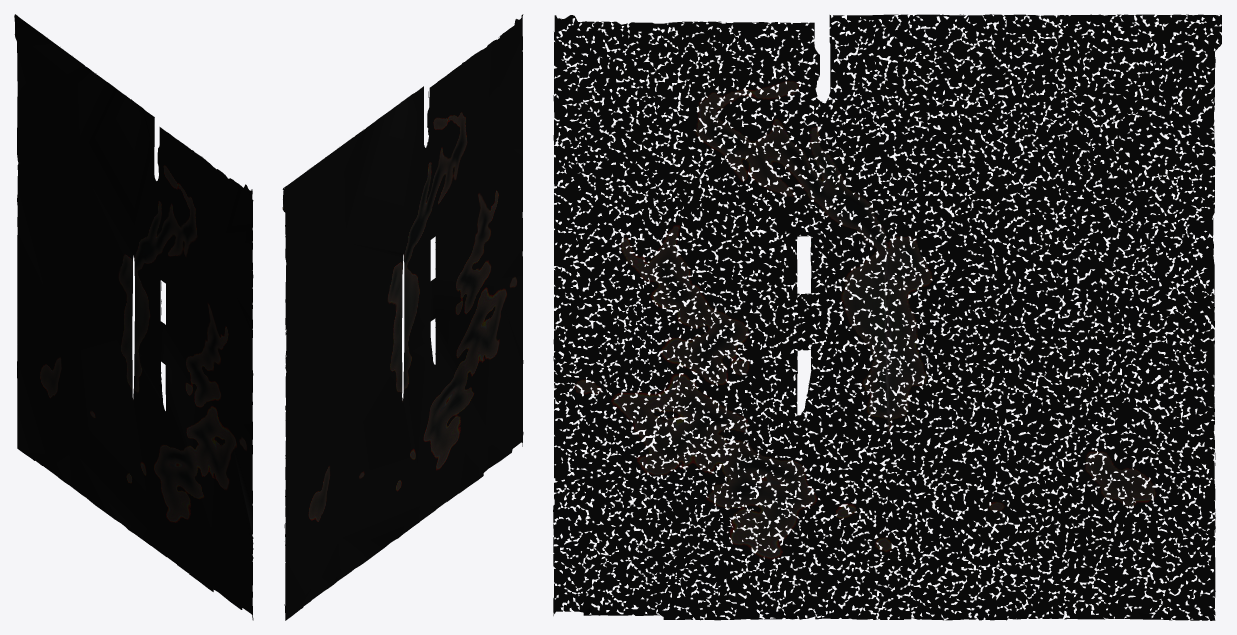
Rendered from pine_1788547918_18313900.glb.
3 renders of one model, left to right at view 1: azimuth 30°, elevation 25°; view 2: azimuth 150°, elevation 25°; view 3: azimuth 270°, elevation 25°, orthographic. The views are drawn at different scales.
Visible parts, largest first — view 1: Hero; view 2: Hero; view 3: Hero.
Boxes of the visible parts, x1,y1,x2,y2 form: Hero: (14,14,253,620); Hero: (282,14,523,620); Hero: (553,14,1221,620).
Size of the model in its own units: 0.0105 by 0.9999 by 1.
1 material, 1 textured.
